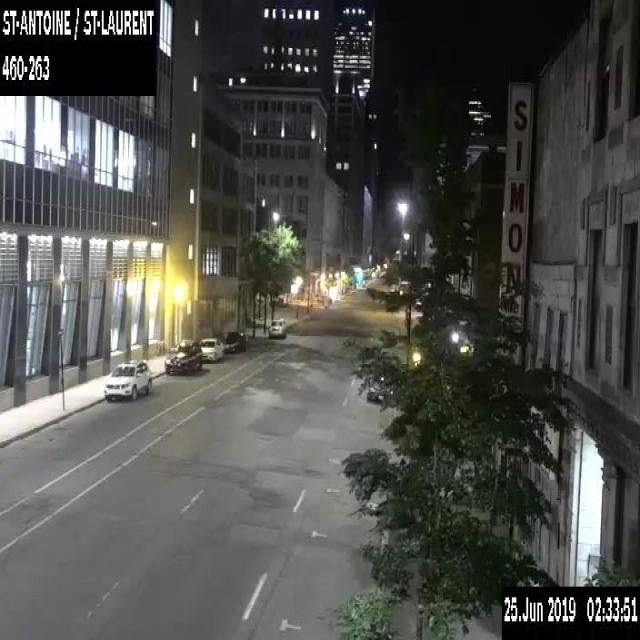vehicle: (103, 357, 153, 401), (164, 338, 202, 374), (366, 374, 394, 404), (198, 336, 224, 361), (220, 329, 248, 352), (268, 317, 286, 338)
